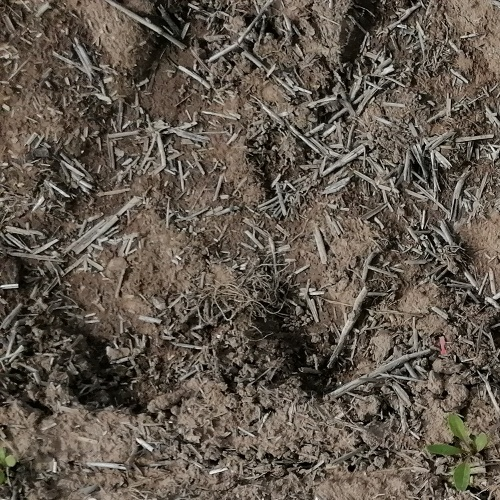beet: (429, 417, 488, 491), (0, 445, 16, 485)
